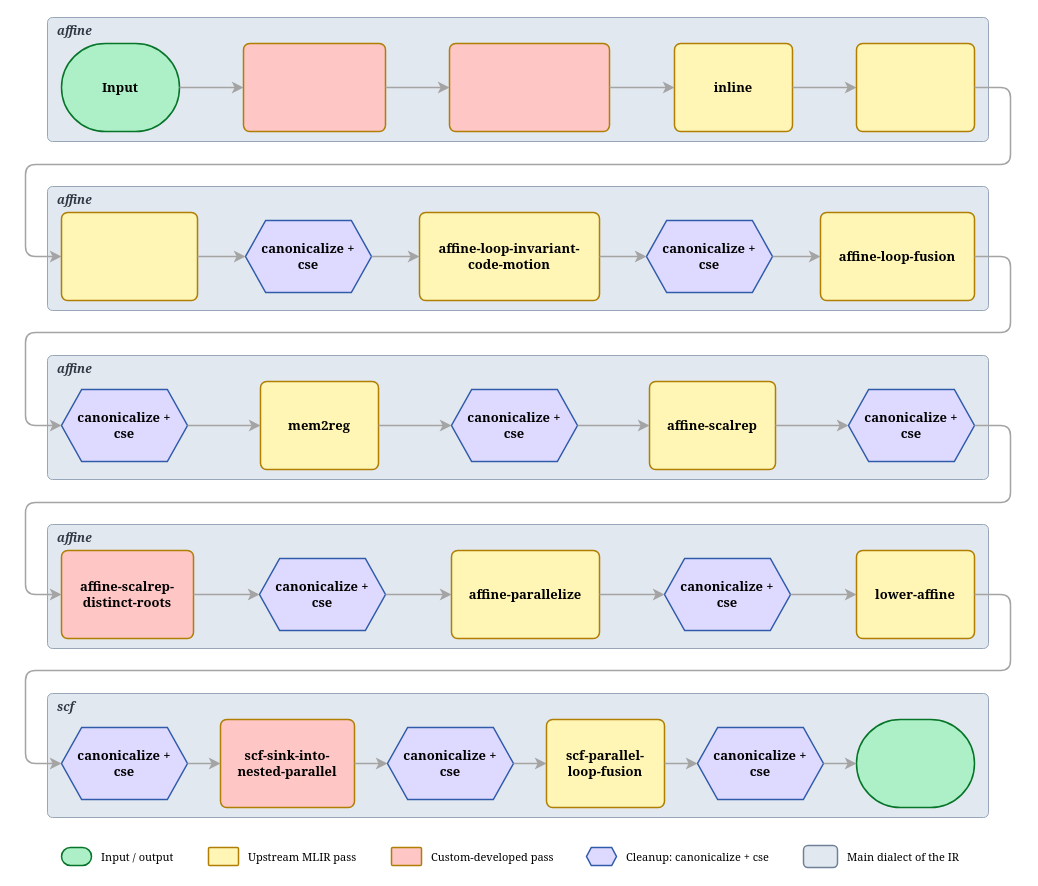
Image size: 1038x886. Some labels were removed from this diagram. The shapes that lost their labels are listed below. From the top down, each one's centre as x and y in pixels, then its label:
At [314,87]: "reinterpret-flat- array-access".
At [529,87]: "affine-loop-fusion- non-conservative*".
At [915,87]: "canonicalize".
At [129,256]: "loop-invariant- code-motion".
At [915,763]: "Output".
